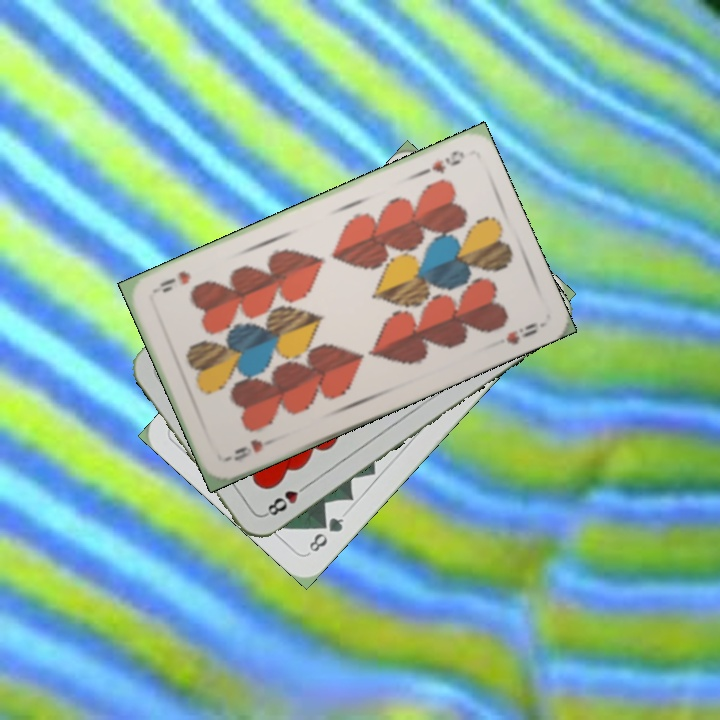G8: (304, 513, 347, 557)
H8: (260, 479, 312, 519)
H9: (413, 146, 468, 179), (222, 435, 266, 466)
